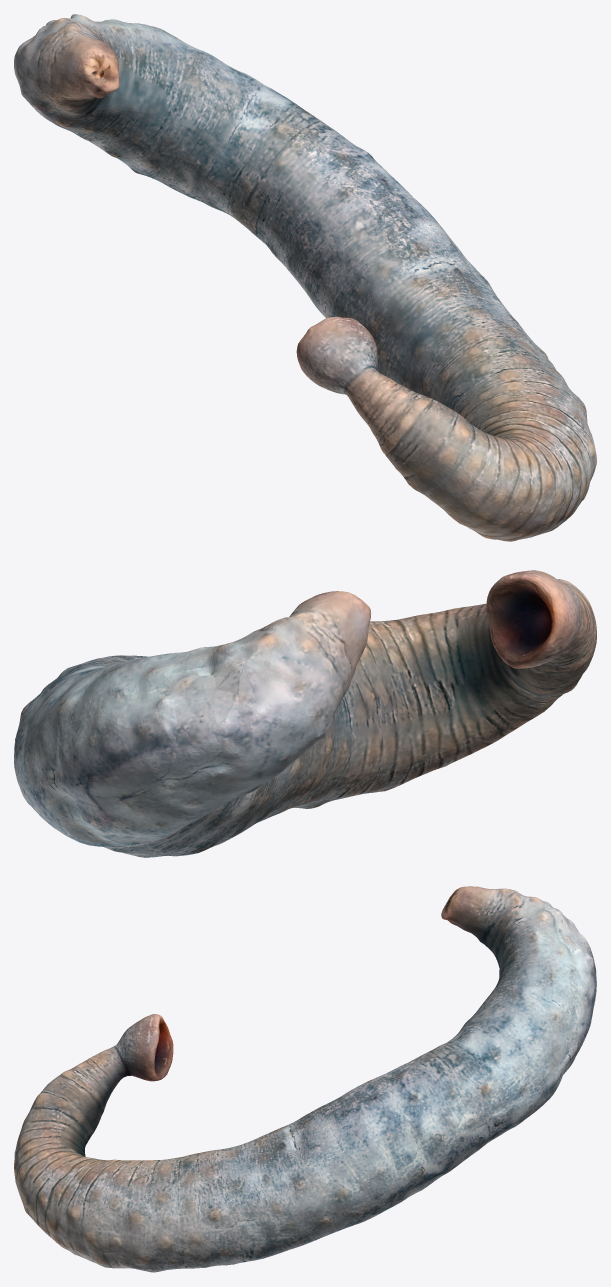
Rendered from MZUR3D-001.glb.
3 renders of one model, top to bottom at view 1: azimuth 30°, elevation 25°; view 2: azimuth 150°, elevation 25°; view 3: azimuth 270°, elevation 25°, orthographic. The views are drawn at different scales.
Visible parts, largest first — view 1: MZUR3D-001; view 2: MZUR3D-001; view 3: MZUR3D-001.
Boxes of the visible parts, x1=… form: MZUR3D-001: x1=14, y1=14, x2=596, y2=541; MZUR3D-001: x1=14, y1=570, x2=596, y2=857; MZUR3D-001: x1=14, y1=886, x2=596, y2=1272.
Size of the model in its own units: 0.2282 by 0.2417 by 0.4384.
1 material, 1 textured.
